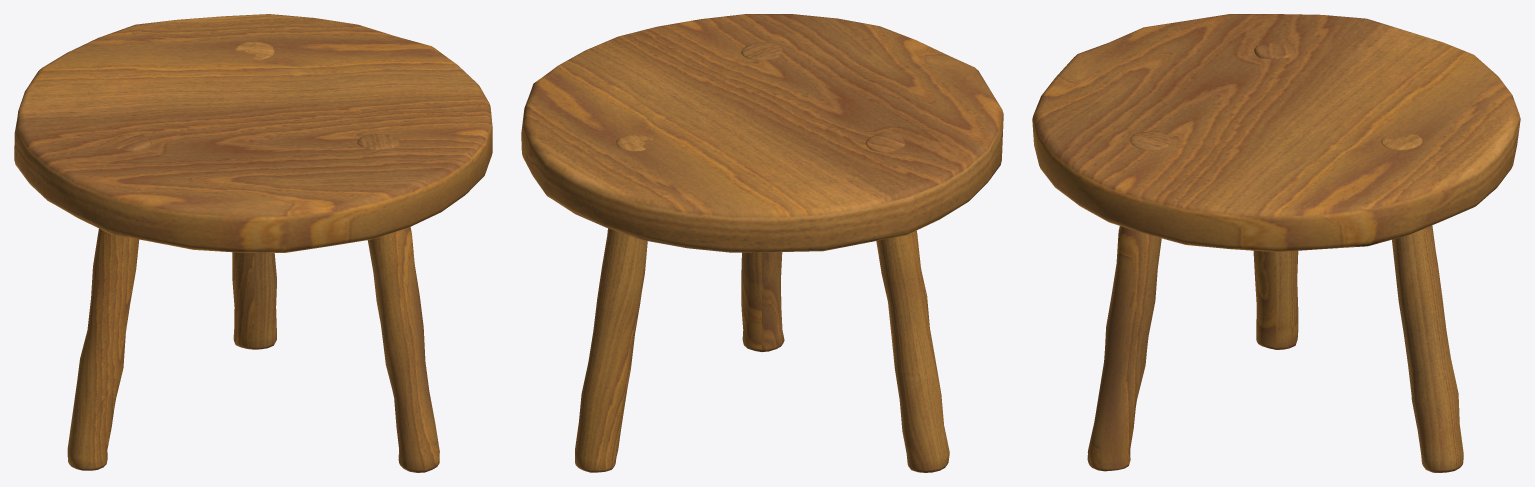
File: obj_wooden_stool_34fe7f.glb
The picture shows the model from 3 angles, left to right: view 1: azimuth 30°, elevation 25°; view 2: azimuth 150°, elevation 25°; view 3: azimuth 270°, elevation 25°; orthographic projection.
Visible parts, largest first — view 1: obj_wooden_stool_34fe7f; view 2: obj_wooden_stool_34fe7f; view 3: obj_wooden_stool_34fe7f.
Part boxes in pixels (x1,y1,x2,y2): obj_wooden_stool_34fe7f: (14, 14, 492, 472); obj_wooden_stool_34fe7f: (521, 14, 1003, 472); obj_wooden_stool_34fe7f: (1032, 14, 1520, 472).
Size of the model in its own units: 0.5771 by 0.42 by 0.5847.
1 material, 1 textured.
